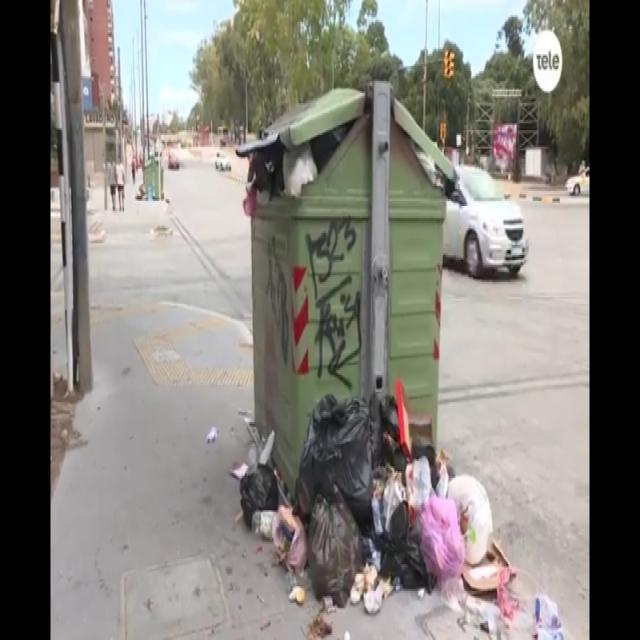garbage: (199, 398, 587, 638), (240, 140, 340, 221)
